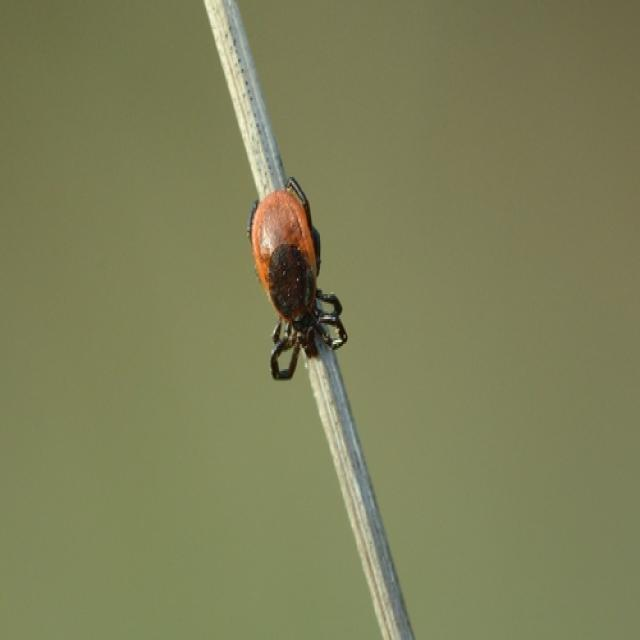Ixodes Ricinus-F: (247, 177, 348, 382)
